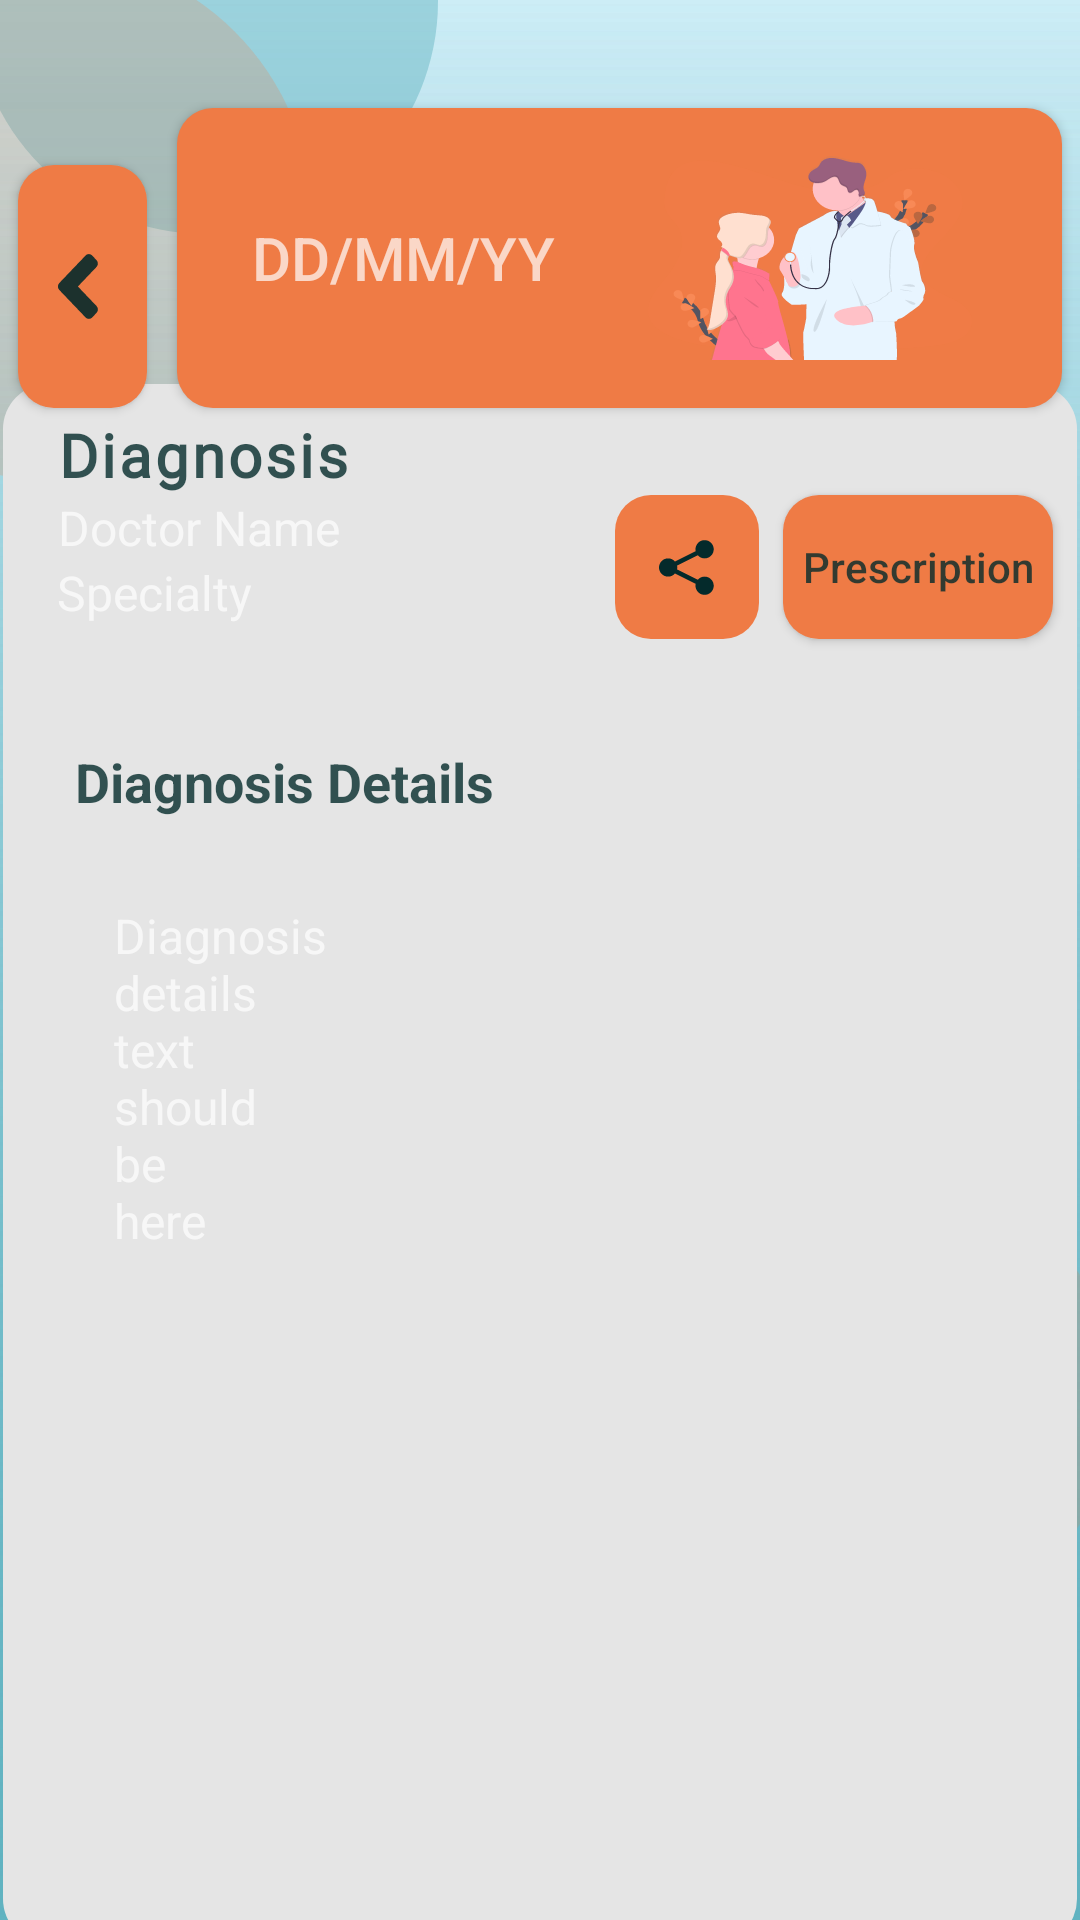

Screen size 1080 x 1920. Icon name, then its box in pixels as [left=x1, top=y1, right=x2, bottom=y2]:
share: [left=615, top=495, right=759, bottom=639]
